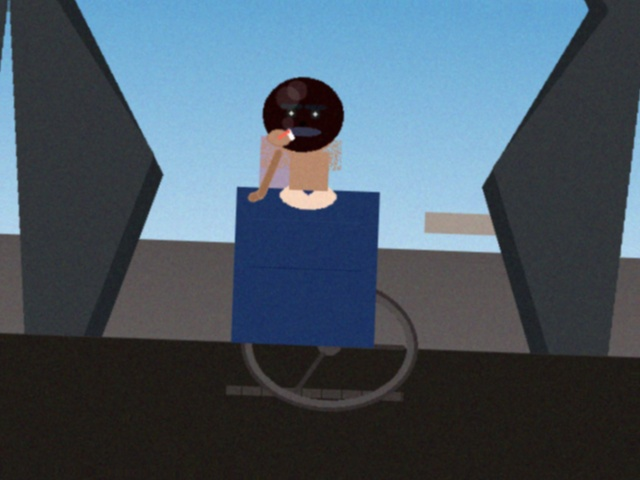smoking: (265, 124, 298, 154)
